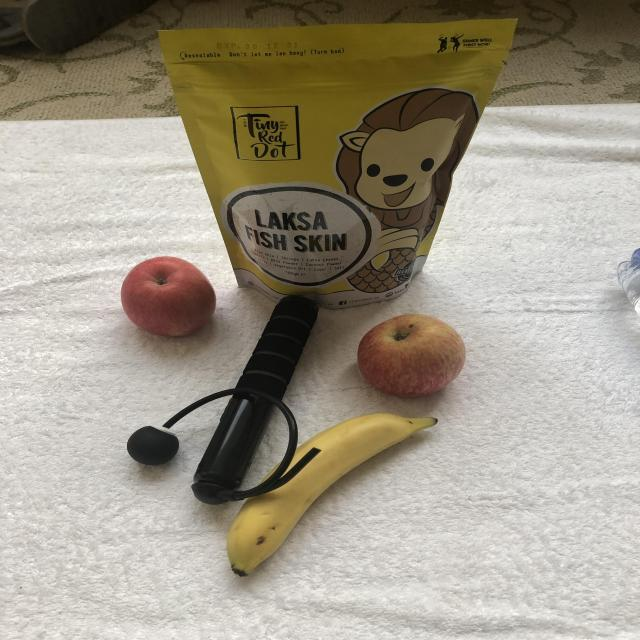apple: (339, 316, 471, 406), (102, 252, 220, 342)
banana: (206, 401, 442, 577)
